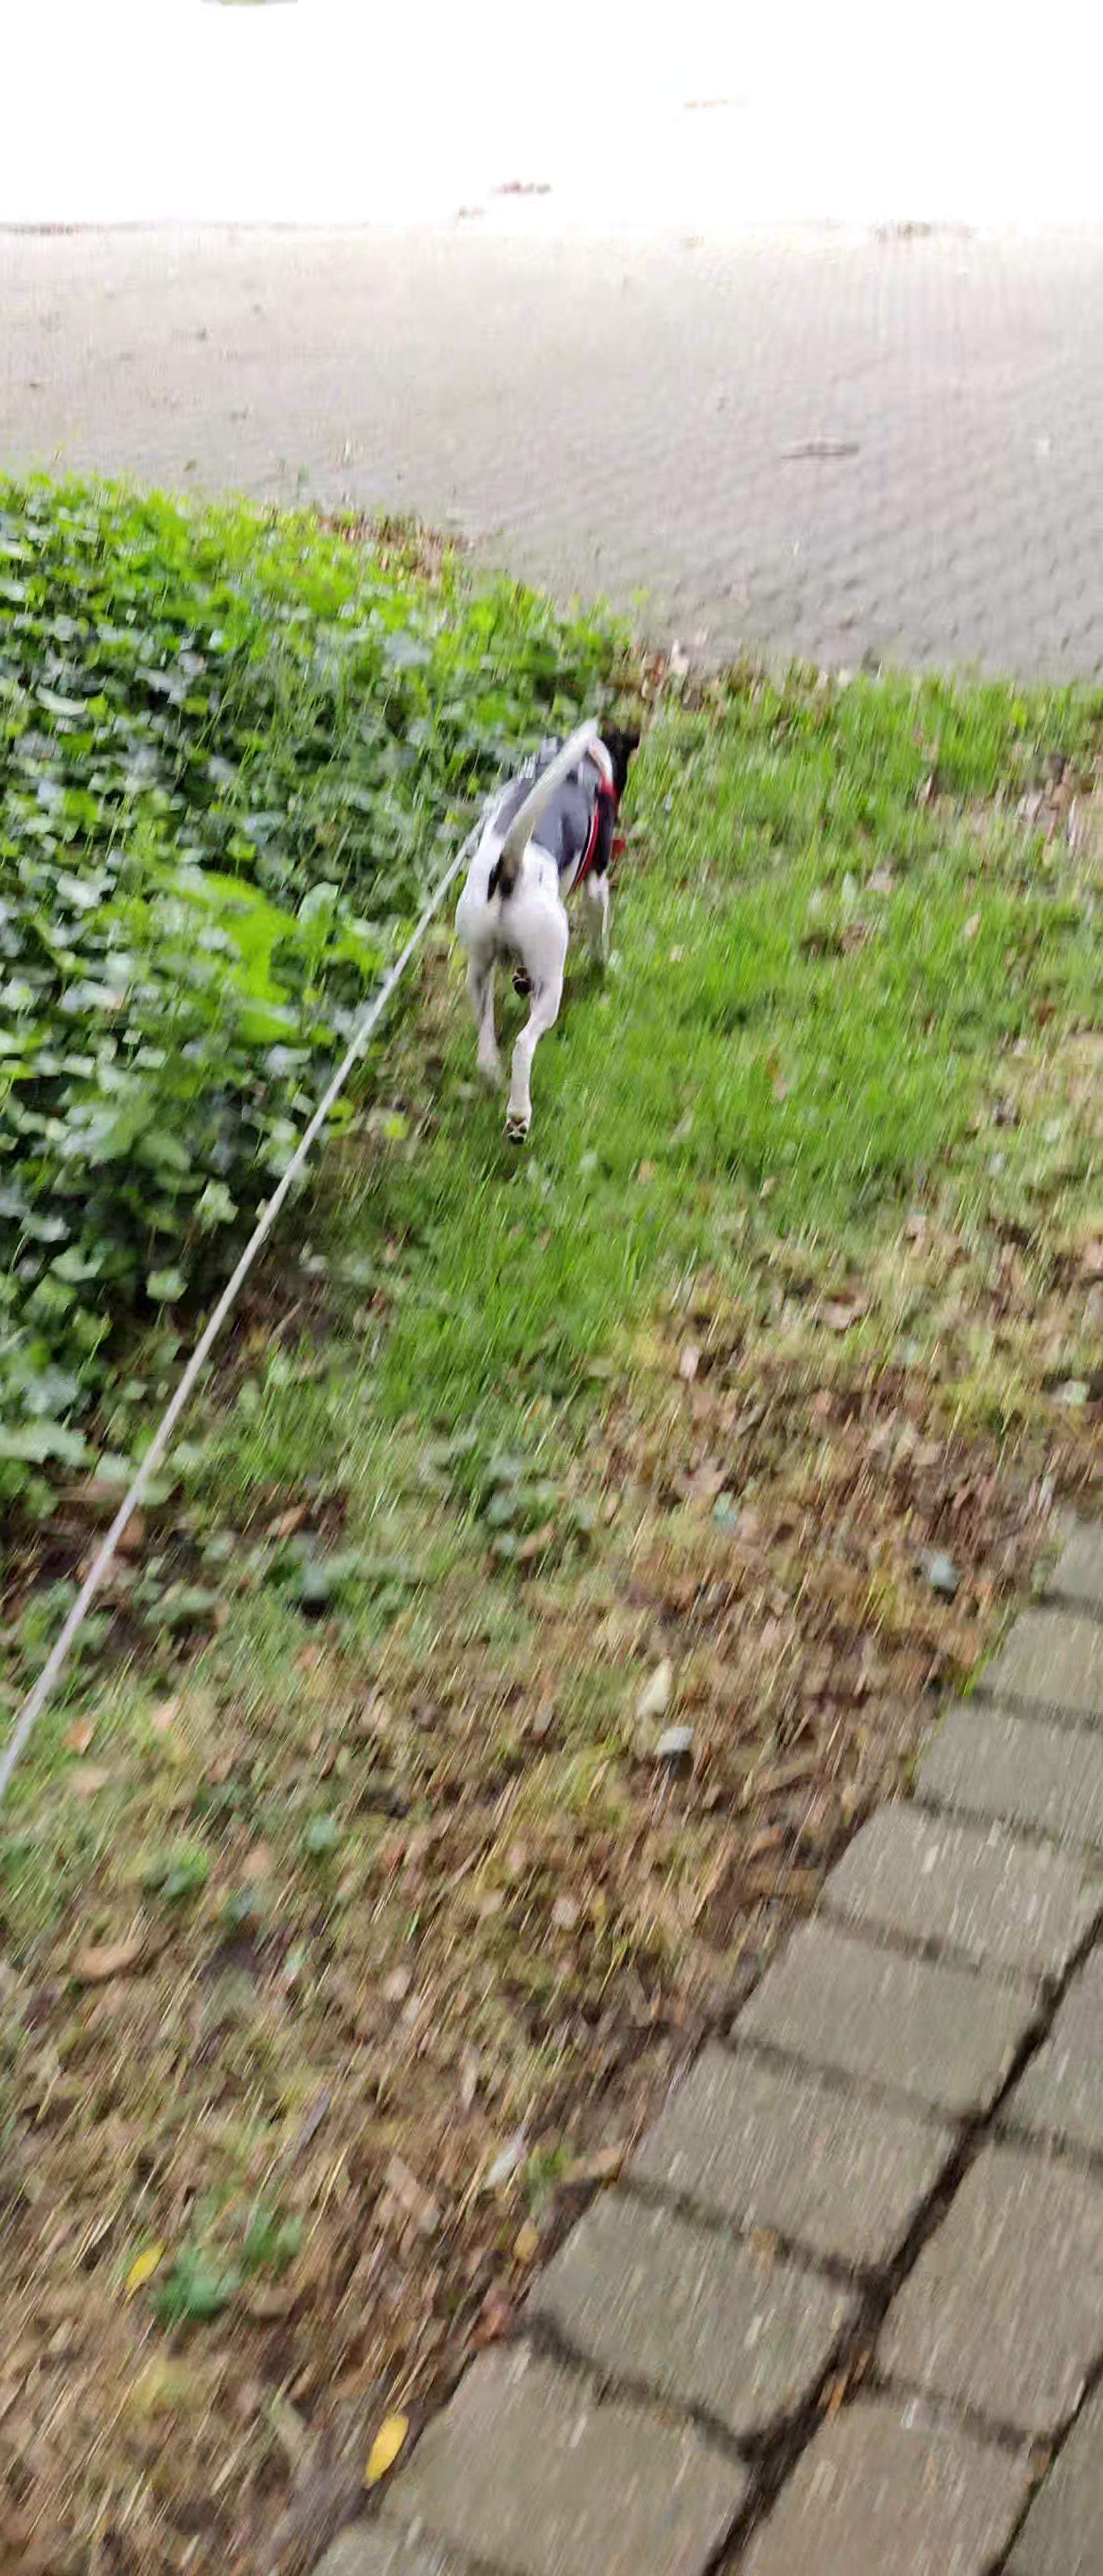Dog: (450, 687, 646, 1153)
